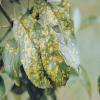Apple rust leaf: (12, 13, 51, 90), (39, 23, 73, 89), (2, 36, 22, 89)
